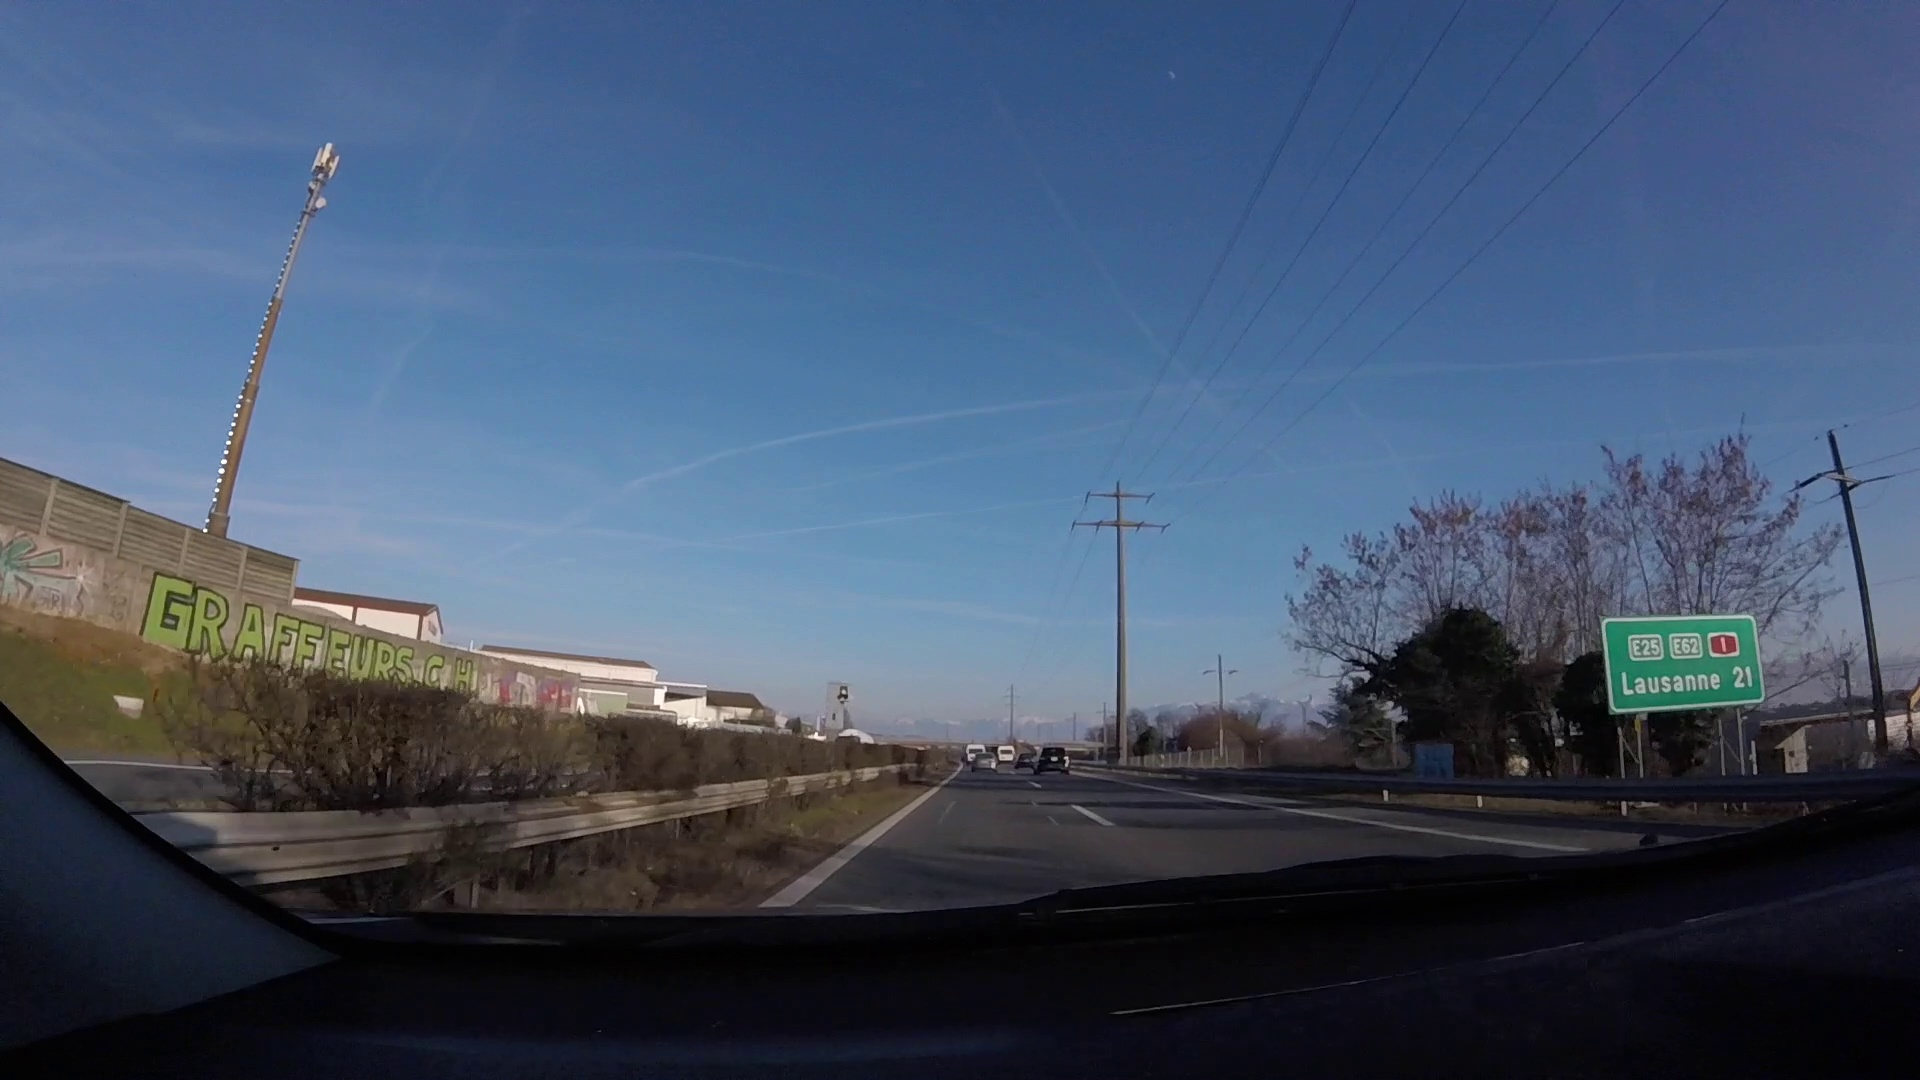radar: (823, 680, 855, 746)
